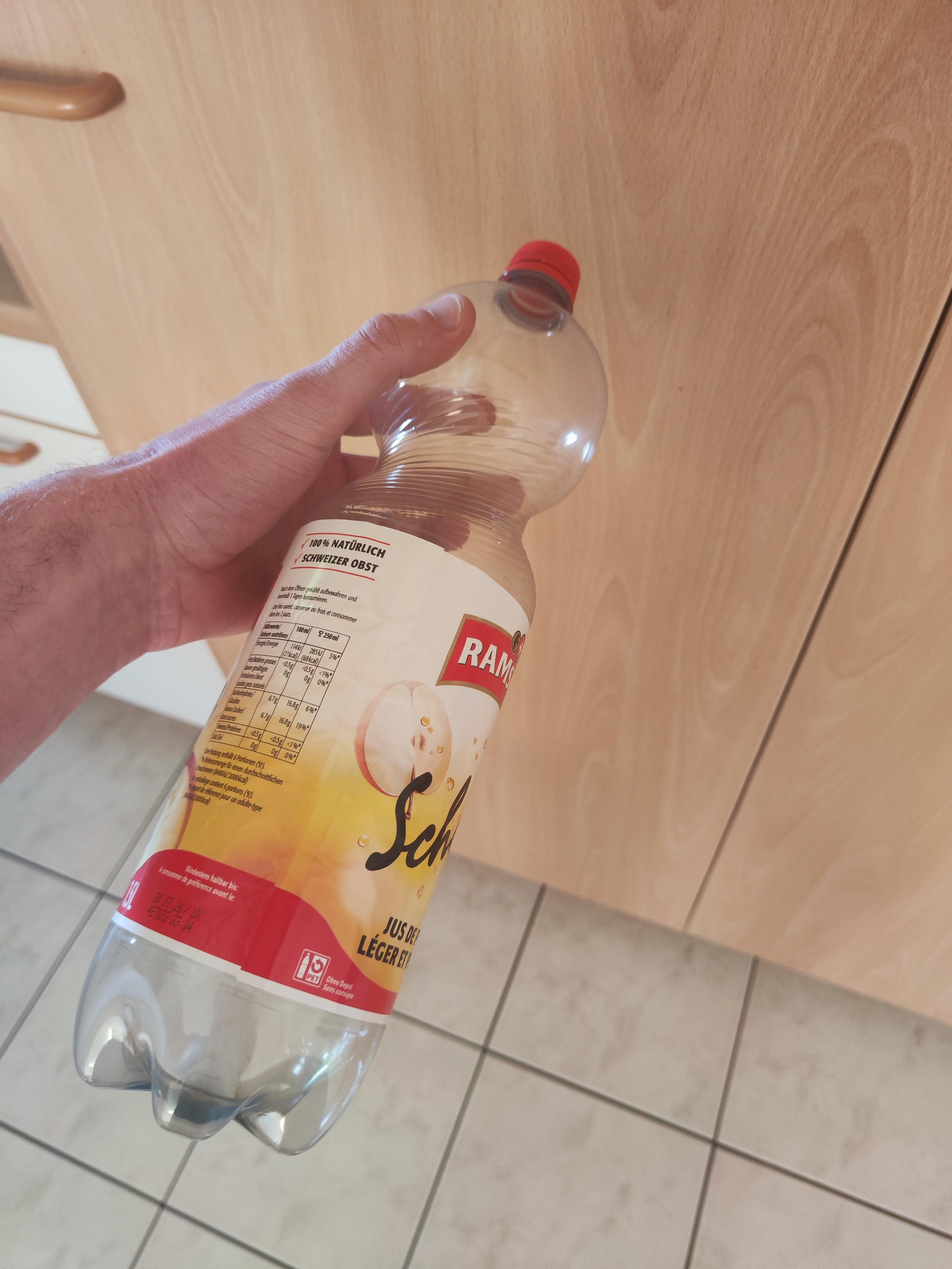Plastic: (71, 235, 614, 1161)
